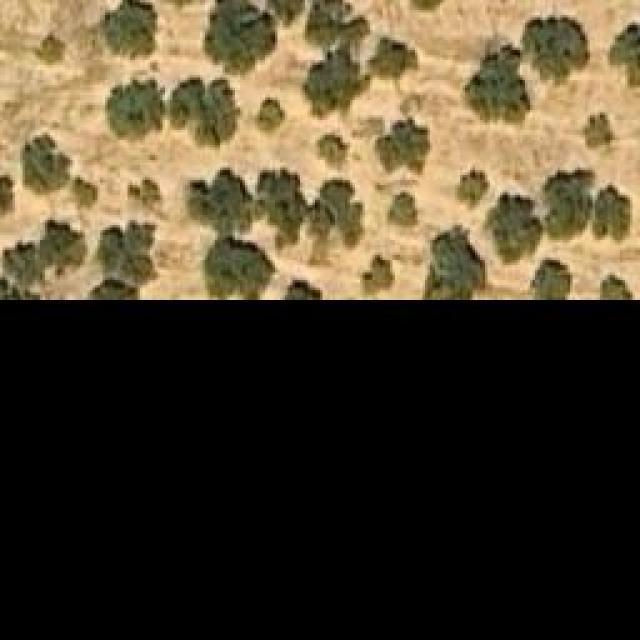Tree: (0, 220, 85, 298), (205, 0, 275, 75), (88, 223, 158, 298), (520, 10, 593, 80), (463, 47, 528, 125), (182, 168, 260, 231), (200, 235, 275, 300), (173, 75, 238, 143), (425, 228, 485, 298), (308, 178, 363, 253), (483, 195, 543, 260), (542, 162, 590, 240), (307, 50, 365, 113), (103, 78, 163, 138), (305, 0, 370, 50), (263, 168, 306, 243), (103, 0, 158, 58), (375, 117, 430, 175), (20, 135, 73, 195), (610, 8, 640, 91), (593, 180, 633, 240), (370, 38, 418, 81), (572, 113, 620, 156), (310, 128, 348, 171), (358, 253, 393, 298), (532, 258, 570, 298), (255, 95, 288, 135), (128, 178, 163, 213), (458, 170, 491, 205), (35, 30, 68, 65), (385, 193, 418, 226), (68, 175, 98, 210), (285, 278, 323, 298), (600, 275, 633, 298)
